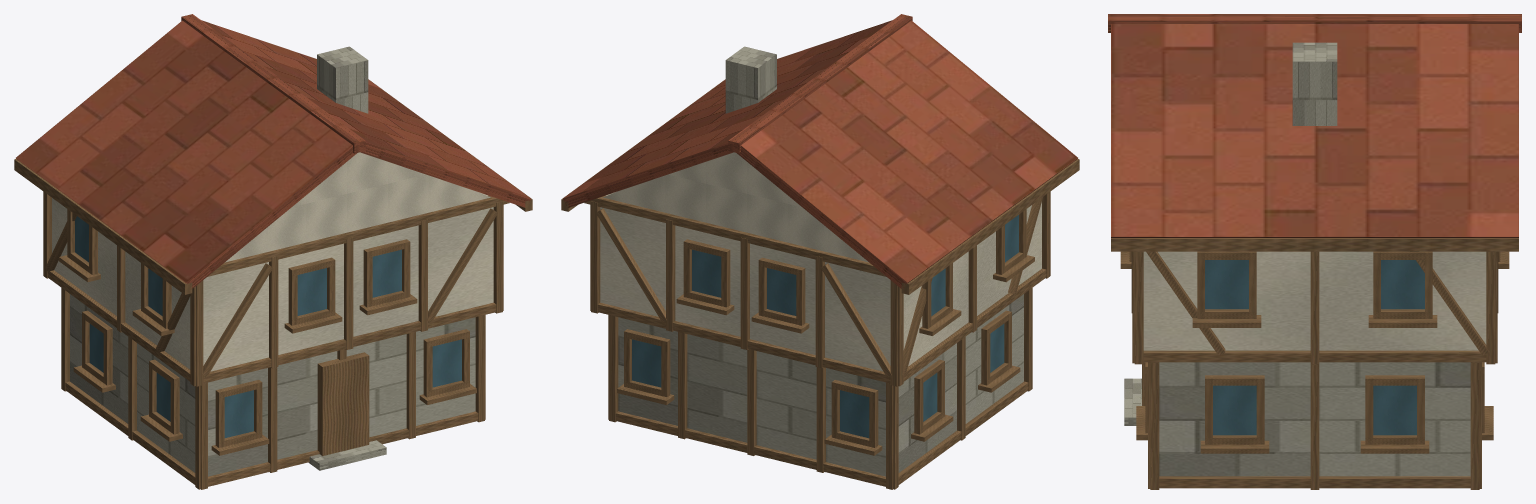
3 renders of one model, left to right at view 1: azimuth 30°, elevation 25°; view 2: azimuth 150°, elevation 25°; view 3: azimuth 270°, elevation 25°, orthographic. The views are drawn at different scales.
Parts seen in each view (by area): view 1: house-roof, house-wood, house-plaster, house-stone, house-glass; view 2: house-roof, house-wood, house-plaster, house-stone, house-glass; view 3: house-roof, house-wood, house-stone, house-plaster, house-glass.
Boxes of the visible parts, <box> form: house-roof: <box>16,14,530,288</box>; house-wood: <box>14,80,532,489</box>; house-plaster: <box>52,152,493,371</box>; house-stone: <box>70,46,475,476</box>; house-glass: <box>75,216,461,438</box>; house-roof: <box>563,14,1077,289</box>; house-wood: <box>561,80,1079,489</box>; house-plaster: <box>600,152,1041,371</box>; house-stone: <box>618,46,1023,476</box>; house-glass: <box>632,215,1018,438</box>; house-roof: <box>1108,14,1521,237</box>; house-wood: <box>1111,238,1518,489</box>; house-stone: <box>1124,42,1470,476</box>; house-plaster: <box>1143,251,1486,350</box>; house-glass: <box>1205,260,1424,435</box>.
Bounding box in the file's own units: 8.54 × 7.74 × 7.36.
Materials: 5 (5 with a texture image).
